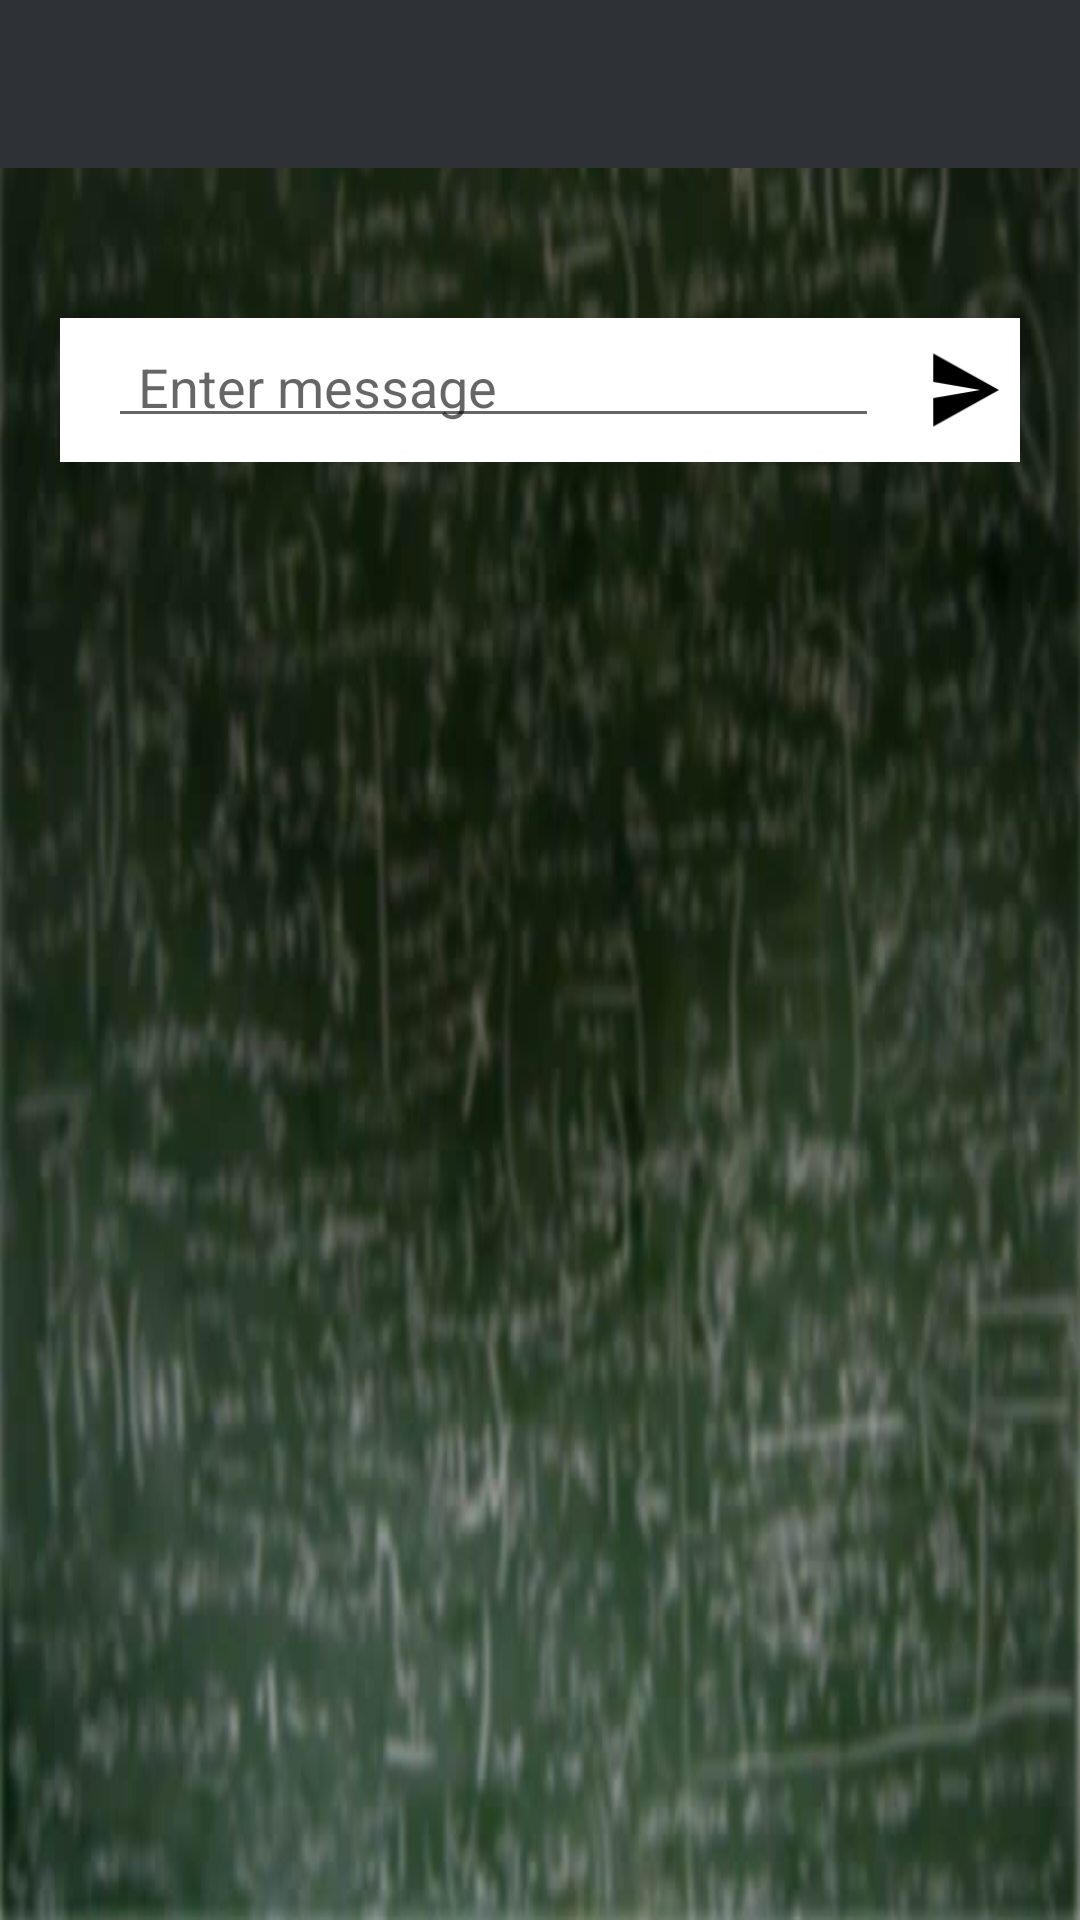

Where icons sit on this 1080 x 1920 app screen, as box(x1, y1, x2, y2):
send: box(933, 353, 999, 427)
